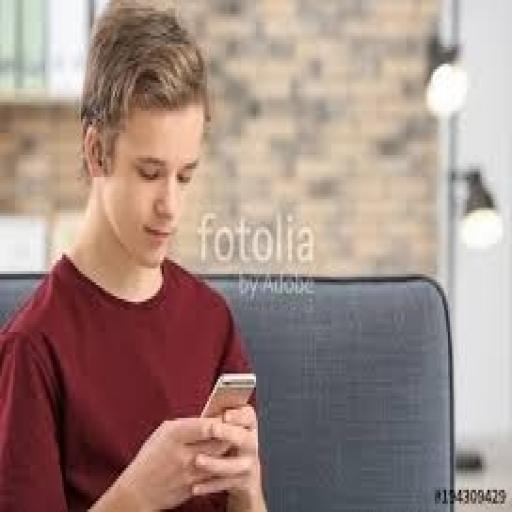texting: (0, 0, 271, 509)
